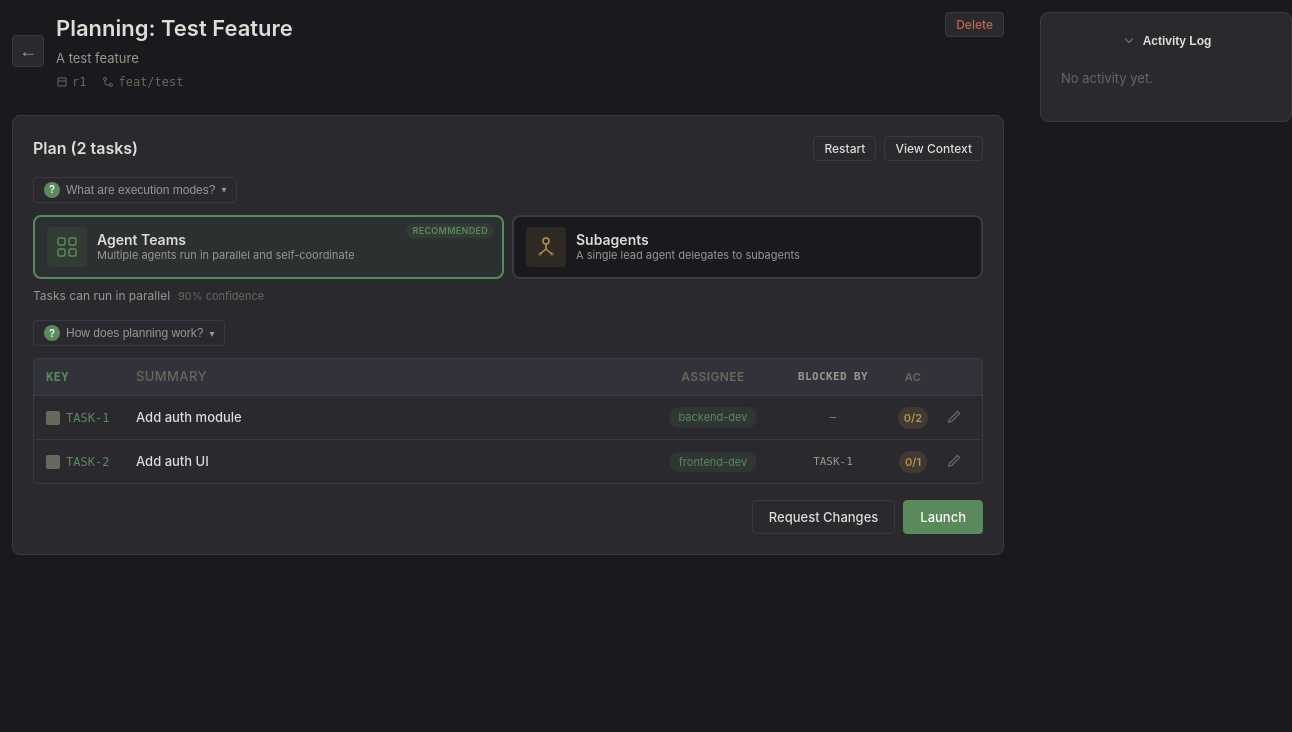
Scenario: FeatureDetailPage › opens feedback form on Request Changes click
Click the button "Request Changes": (824, 517) [752,500,895,534]
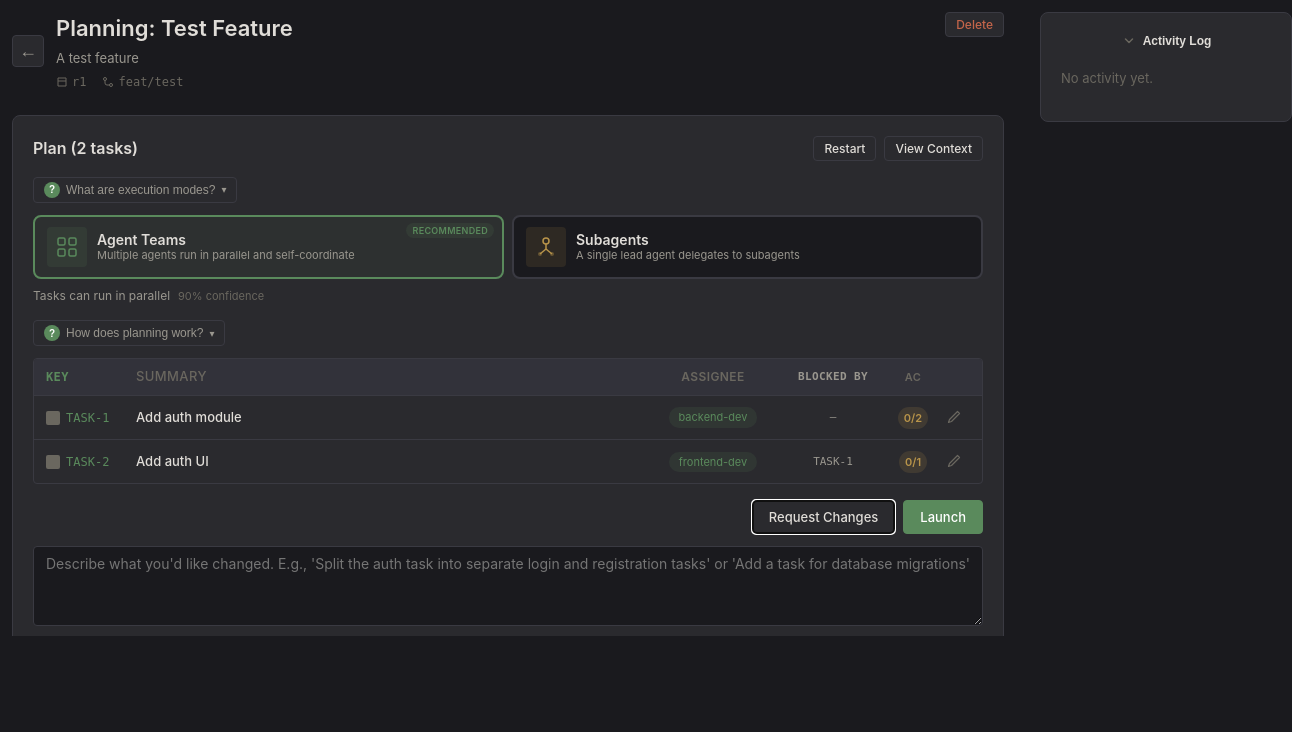
Expected: the text box with placeholder "Describe what you'd like changed" is shown, [33,546,983,626]
